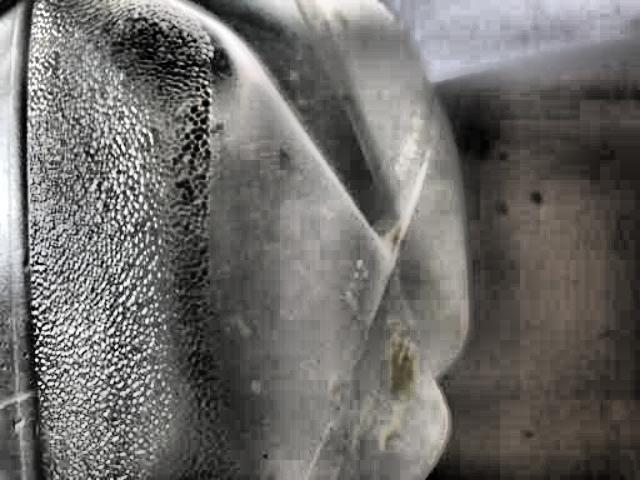Plastic: (0, 0, 468, 480)
